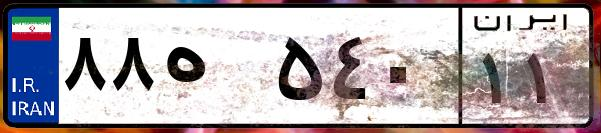0: (385, 28, 445, 110)
1: (475, 38, 525, 113), (525, 38, 570, 115)
4: (330, 28, 385, 110)
5: (270, 28, 330, 110)
8: (57, 26, 110, 100), (110, 28, 158, 98)
ه: (158, 20, 270, 120)
